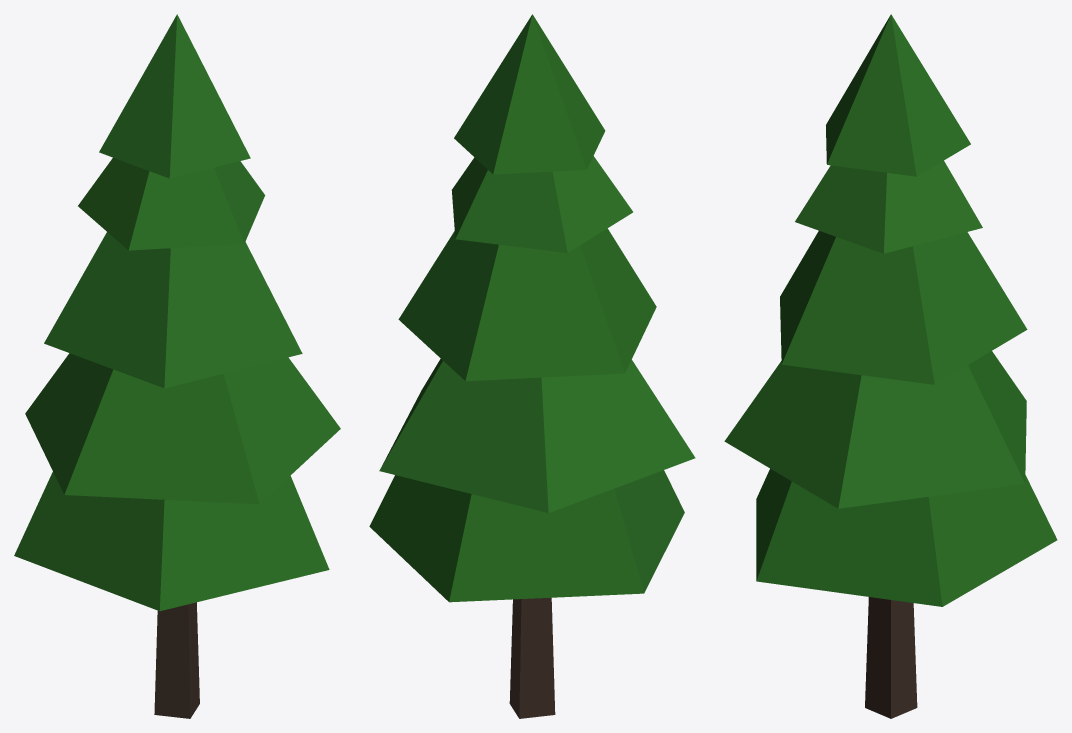
The model's file is pine.glb.
3 views of the same model, side by side, from view 1: azimuth 30°, elevation 25°; view 2: azimuth 150°, elevation 25°; view 3: azimuth 270°, elevation 25° (orthographic).
Visible parts, largest first — view 1: Circle; view 2: Circle; view 3: Circle.
Boxes of the visible parts, x1=… form: Circle: x1=14, y1=14, x2=340, y2=718; Circle: x1=369, y1=14, x2=695, y2=718; Circle: x1=724, y1=14, x2=1057, y2=718.
Bounding box in the file's own units: 0.4145 × 1 × 0.4352.
